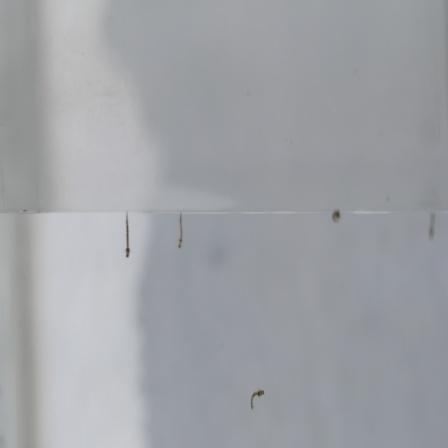Jentik-Nyamuk: (122, 210, 134, 261), (247, 388, 265, 412), (177, 211, 185, 251)
